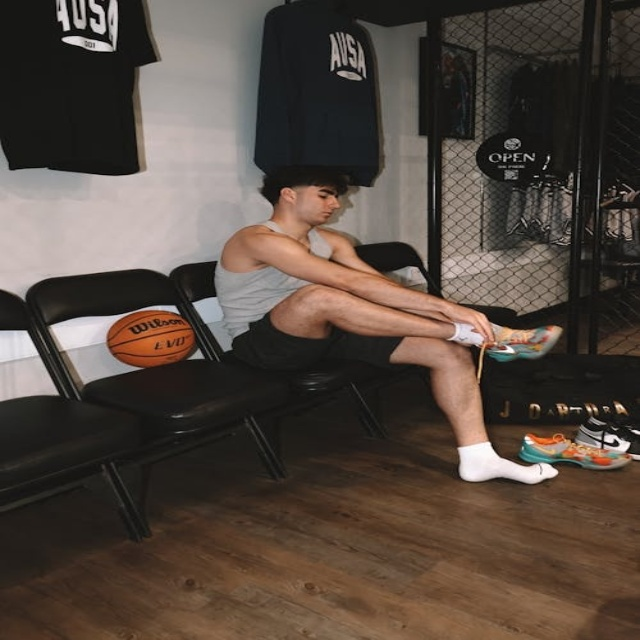Sin_gafas: (306, 185, 339, 200)
Sin_guantes: (445, 297, 499, 342)
Sin_mascara: (310, 207, 333, 220)
